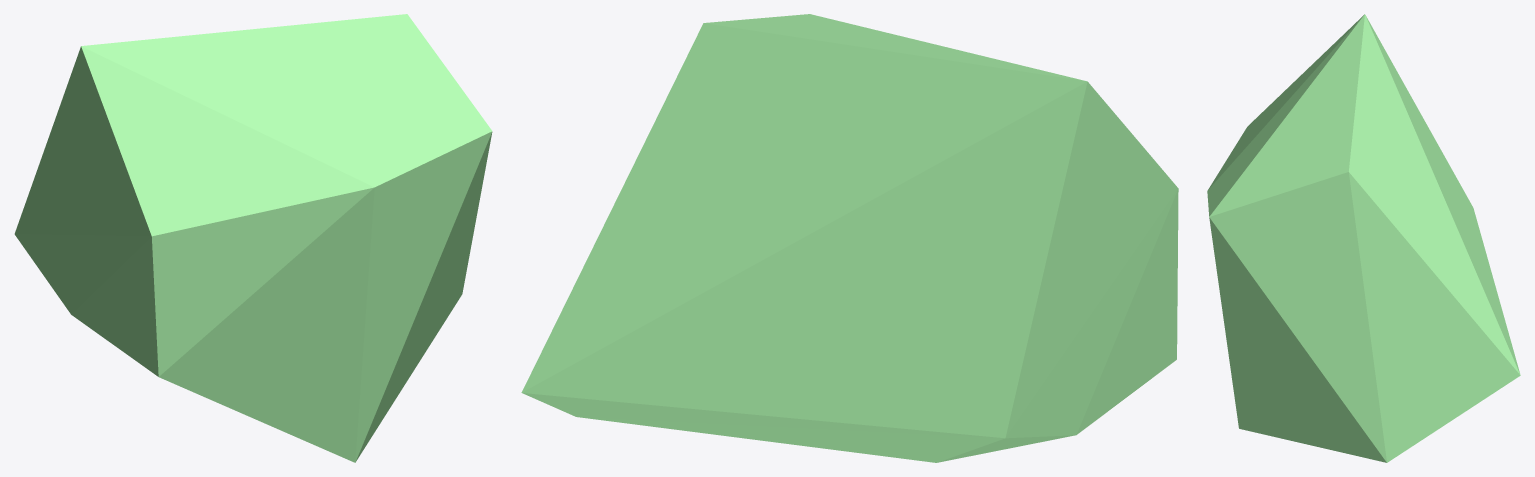
The model's file is linkhou_LR4_R560_link7_respondable_coll_3.dae.
3 views of the same model, side by side, from view 1: azimuth 30°, elevation 25°; view 2: azimuth 150°, elevation 25°; view 3: azimuth 270°, elevation 25° (orthographic). The views are drawn at different scales.
Visible parts, largest first — view 1: Node_00000209DB3AC2E0; view 2: Node_00000209DB3AC2E0; view 3: Node_00000209DB3AC2E0.
Boxes of the visible parts, x1=… form: Node_00000209DB3AC2E0: x1=14, y1=14, x2=492, y2=462; Node_00000209DB3AC2E0: x1=521, y1=14, x2=1178, y2=462; Node_00000209DB3AC2E0: x1=1207, y1=14, x2=1520, y2=462.
Bounding box in the file's own units: 0.00999 × 0.00987 × 0.00835.
